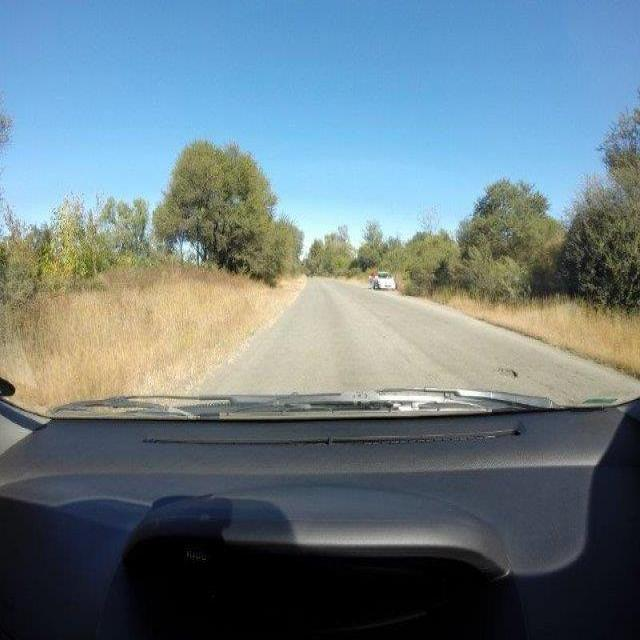lubang: (494, 362, 520, 382)
